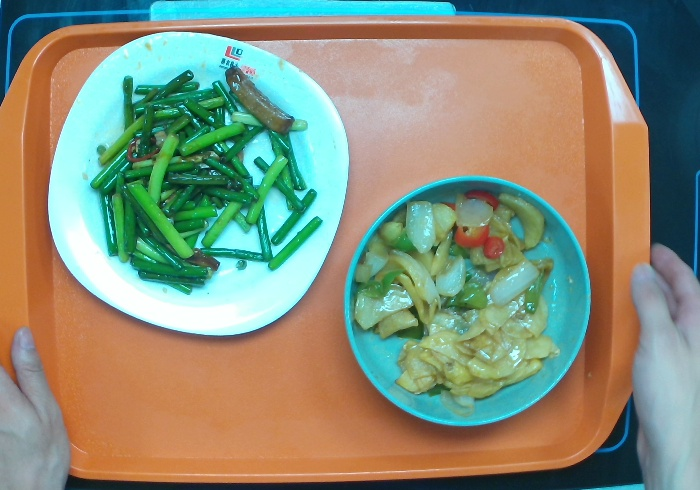ZNLD-Qing_Hua_Yuan_Wan: (334, 170, 596, 437)
ZNLD-Yuan_Jiao_Pan: (45, 28, 352, 339)
